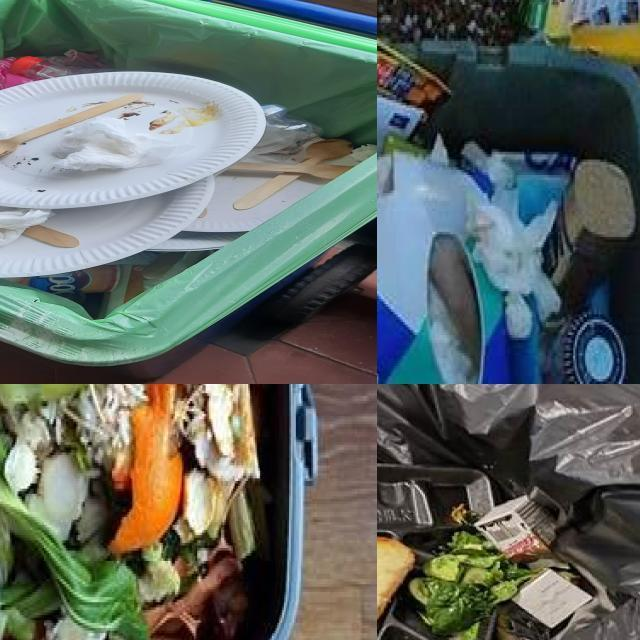Disposable: (0, 71, 265, 208), (0, 178, 215, 278), (185, 170, 332, 233), (377, 465, 493, 533)
Garbage: (0, 51, 377, 317), (377, 30, 638, 384), (0, 384, 273, 640), (377, 384, 640, 640)
Glass_bottle: (543, 159, 636, 311), (544, 311, 625, 384)
Plastic: (377, 154, 511, 384)
Plastic_bottle: (251, 104, 323, 154), (10, 57, 115, 80)
Plastic_wraper: (377, 39, 448, 109), (0, 57, 32, 89)
Tetrapack: (474, 487, 562, 560)
